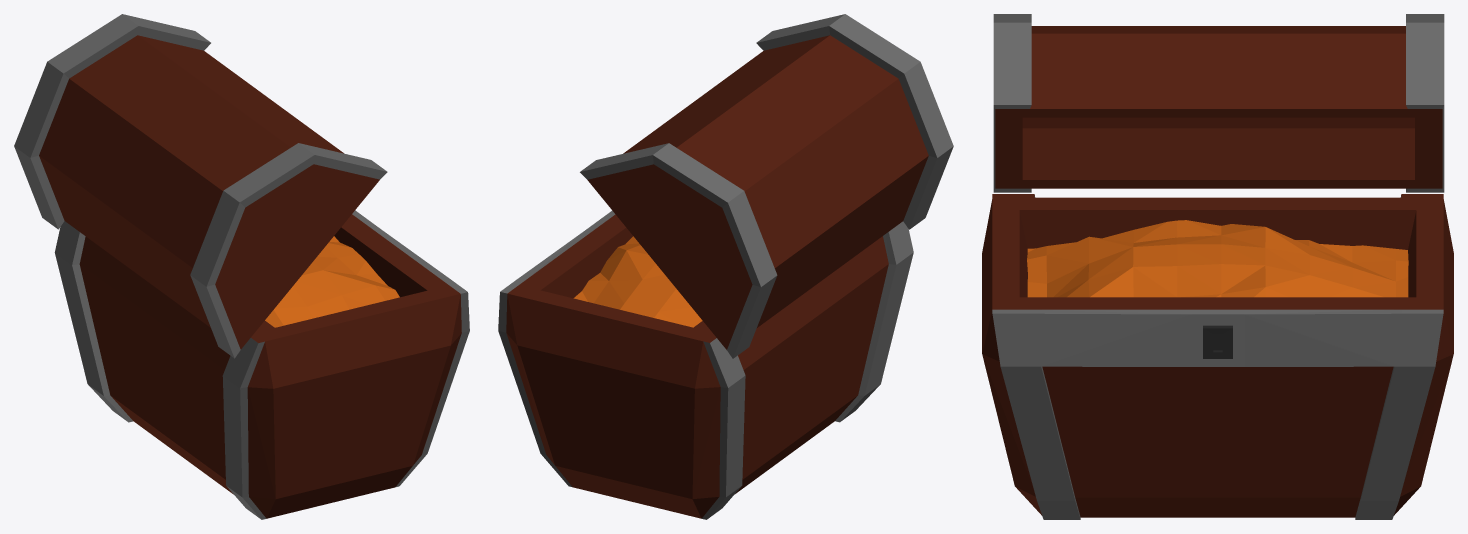
The model's file is Chest_gold.obj.
3 renders of one model, left to right at view 1: azimuth 30°, elevation 25°; view 2: azimuth 150°, elevation 25°; view 3: azimuth 270°, elevation 25°, orthographic. The views are drawn at different scales.
Parts seen in each view (by area): view 1: ChestBottom_Cube.024, ChestTop_Cylinder.018; view 2: ChestBottom_Cube.024, ChestTop_Cylinder.018; view 3: ChestBottom_Cube.024, ChestTop_Cylinder.018.
Boxes of the visible parts, box(x1,y1,x2,y2) form: ChestBottom_Cube.024: box(54, 210, 469, 519); ChestTop_Cylinder.018: box(14, 14, 387, 358); ChestBottom_Cube.024: box(498, 210, 913, 519); ChestTop_Cylinder.018: box(580, 14, 953, 358); ChestBottom_Cube.024: box(982, 194, 1453, 519); ChestTop_Cylinder.018: box(993, 14, 1444, 192).
Bounding box in the file's own units: 0.5206 × 0.6887 × 0.6741.
